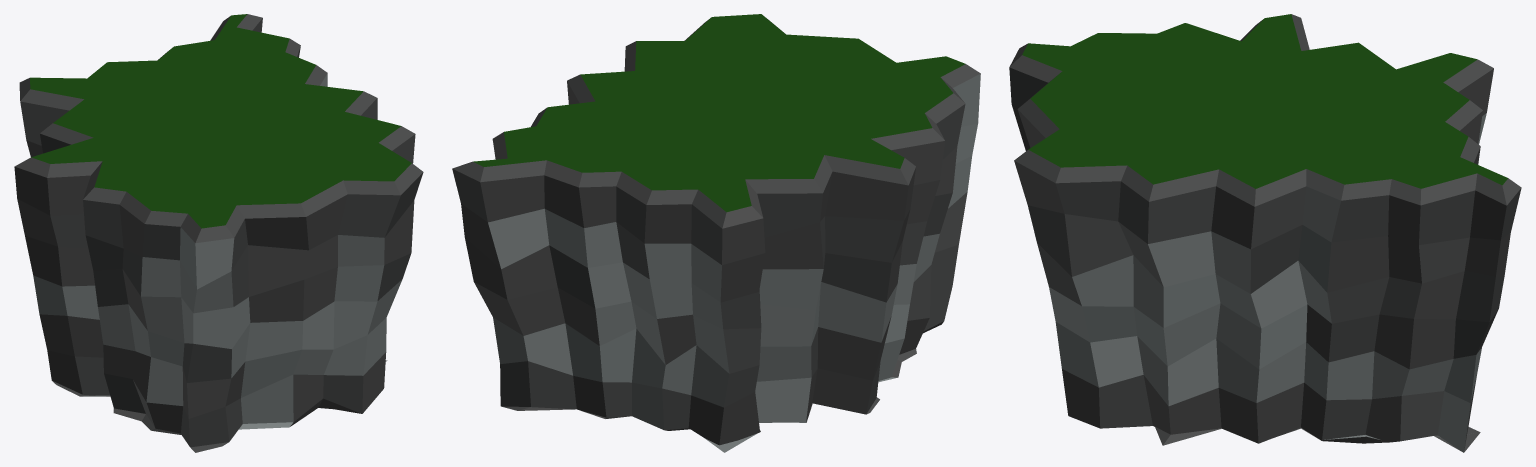
The model's file is Klippe.fbx.
3 views of the same model, side by side, from view 1: azimuth 30°, elevation 25°; view 2: azimuth 150°, elevation 25°; view 3: azimuth 270°, elevation 25° (orthographic). The views are drawn at different scales.
Parts seen in each view (by area): view 1: Klippe2; view 2: Klippe2; view 3: Klippe2.
Boxes of the visible parts, left/top/right/bottom form: Klippe2: left=14, top=14, right=423, bottom=452; Klippe2: left=452, top=14, right=980, bottom=452; Klippe2: left=1009, top=14, right=1521, bottom=452.
Bounding box in the file's own units: 519 × 353 × 594.
